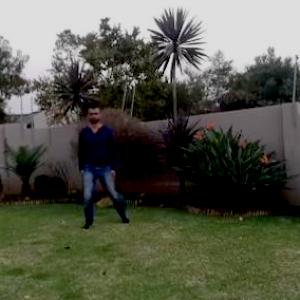follow: (79, 99, 116, 225)
